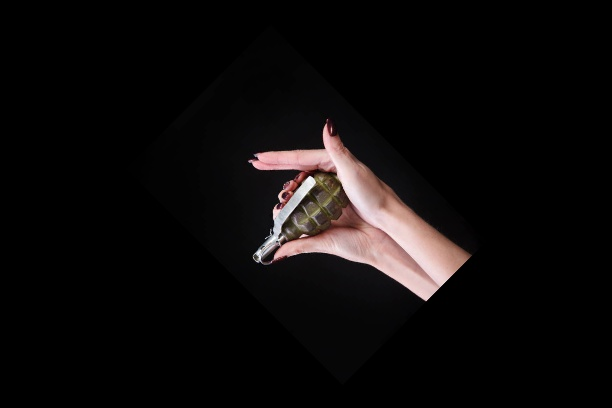e1: (248, 168, 349, 269)
